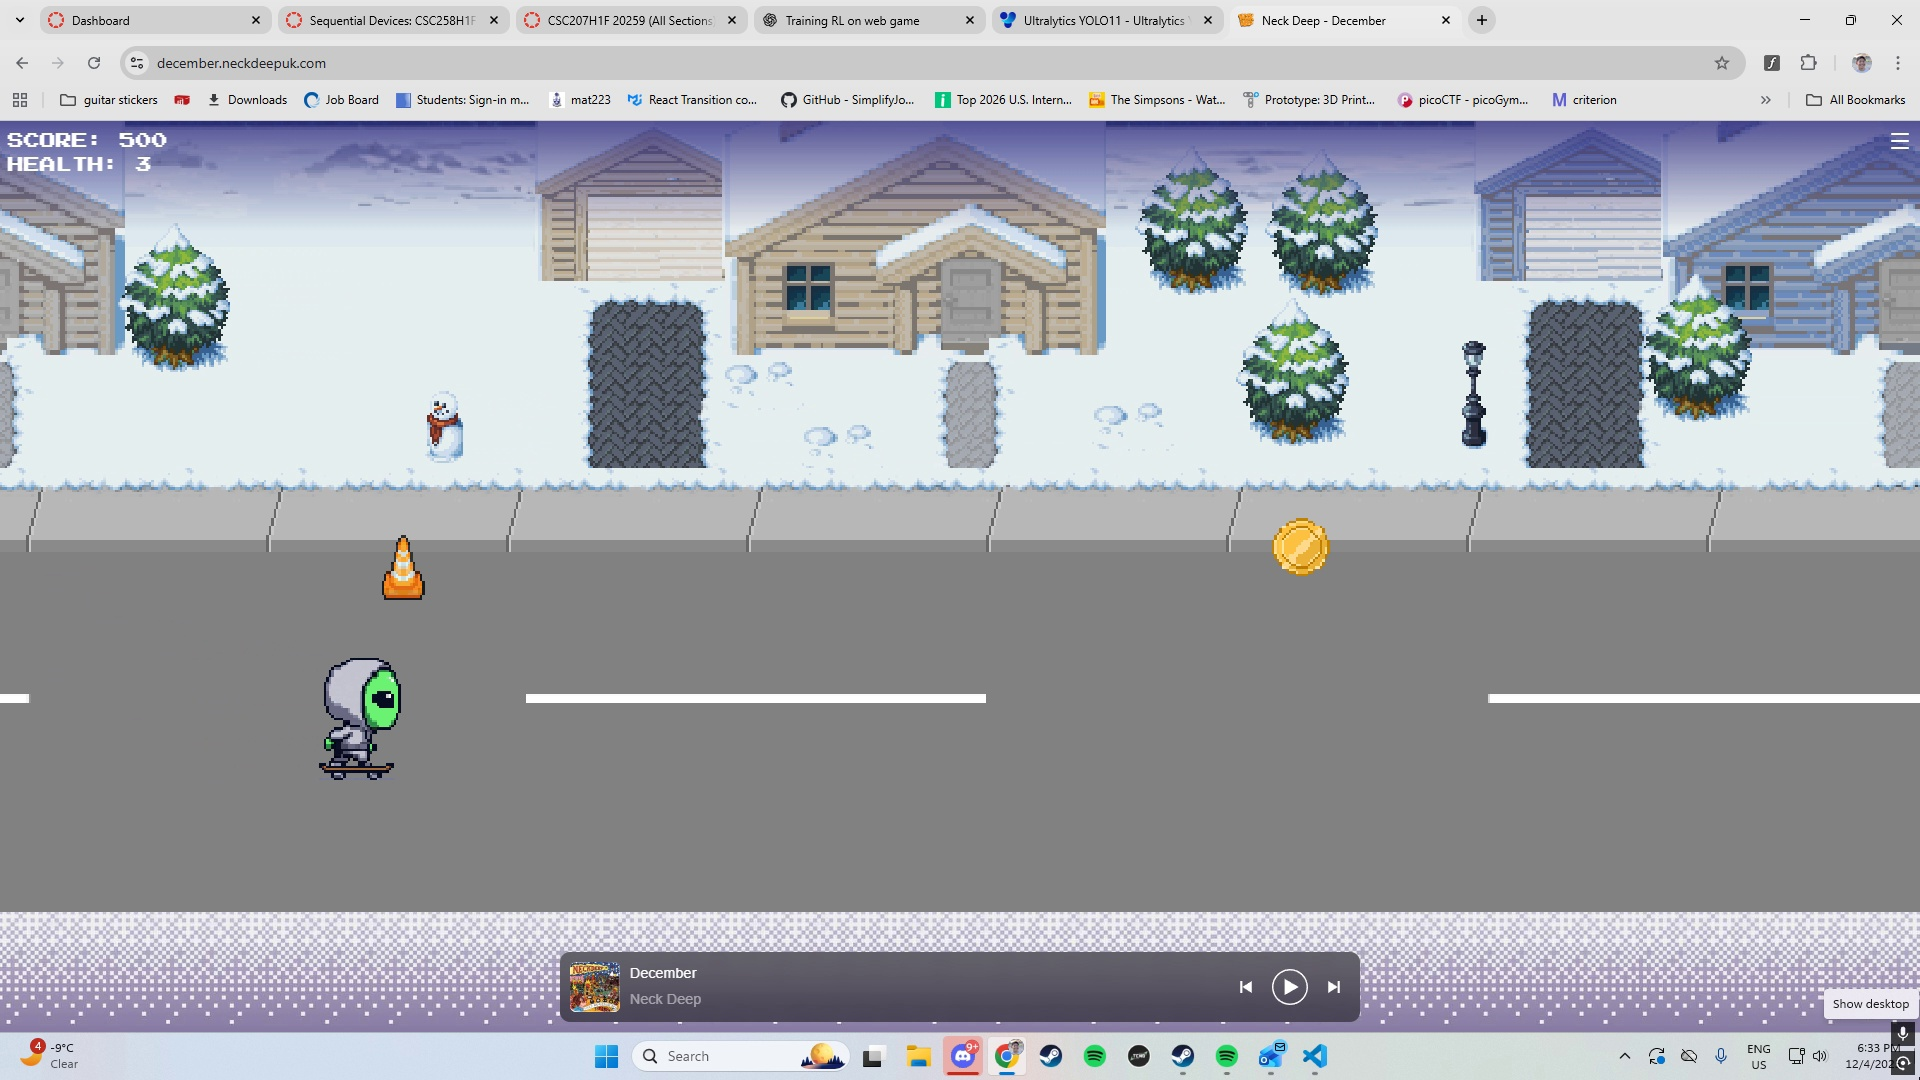Coin: (1271, 515, 1332, 581)
Cone: (378, 534, 429, 602)
Player: (319, 654, 406, 784)
